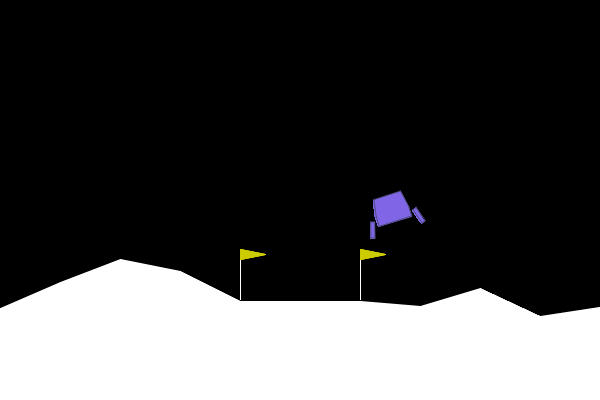lander: (357, 185, 427, 241)
